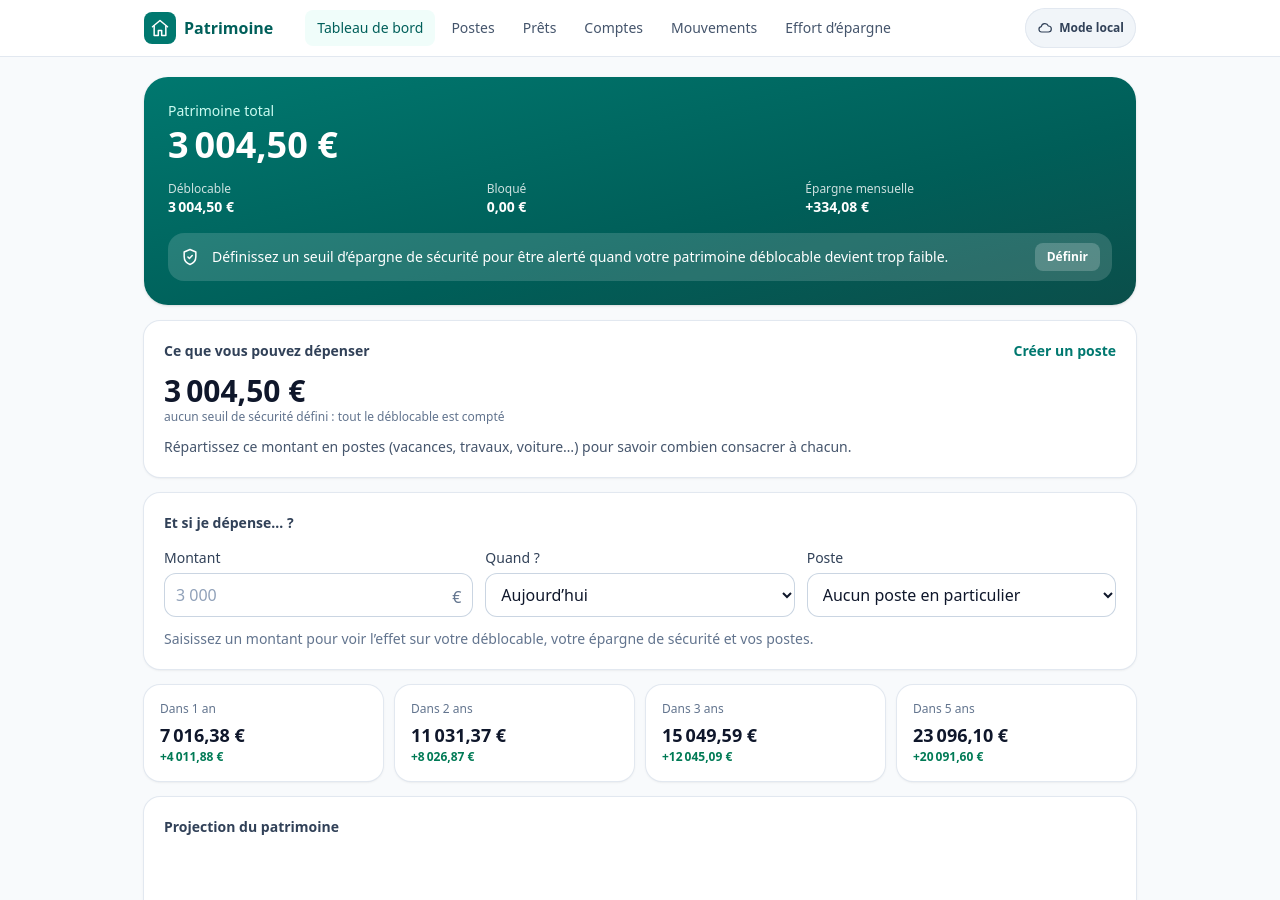
Test case: Épargne de sécurité › refuse un seuil invalide
This screenshot has width=1280, height=900.
Click the button with aria-label "définir l’épargne de sécurité".
click(1067, 257)  # box [1035,243,1100,271]
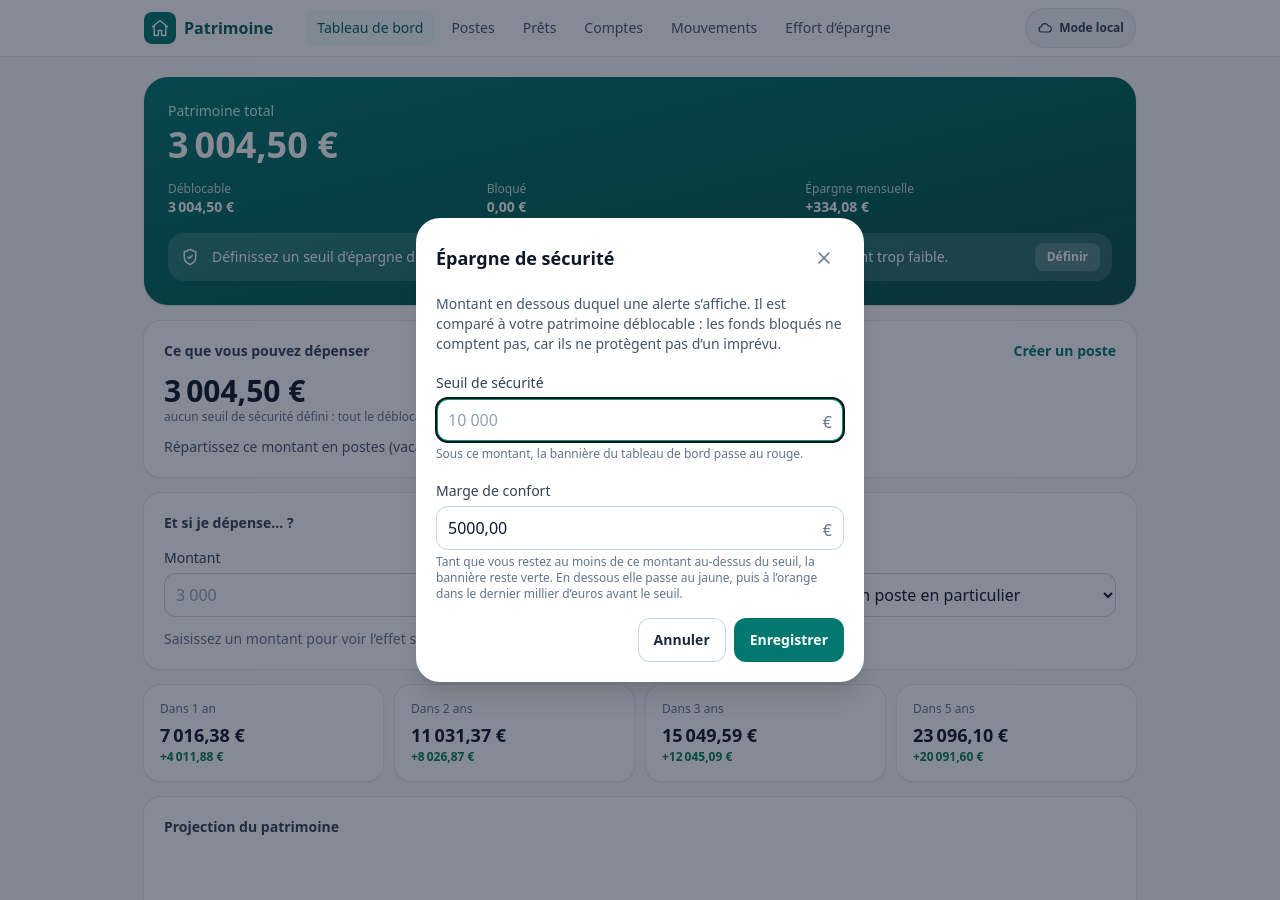
Type "beaucoup" into the field labelled "Seuil de sécurité".
click(640, 420); type("beaucoup")  # box [436,398,844,442]
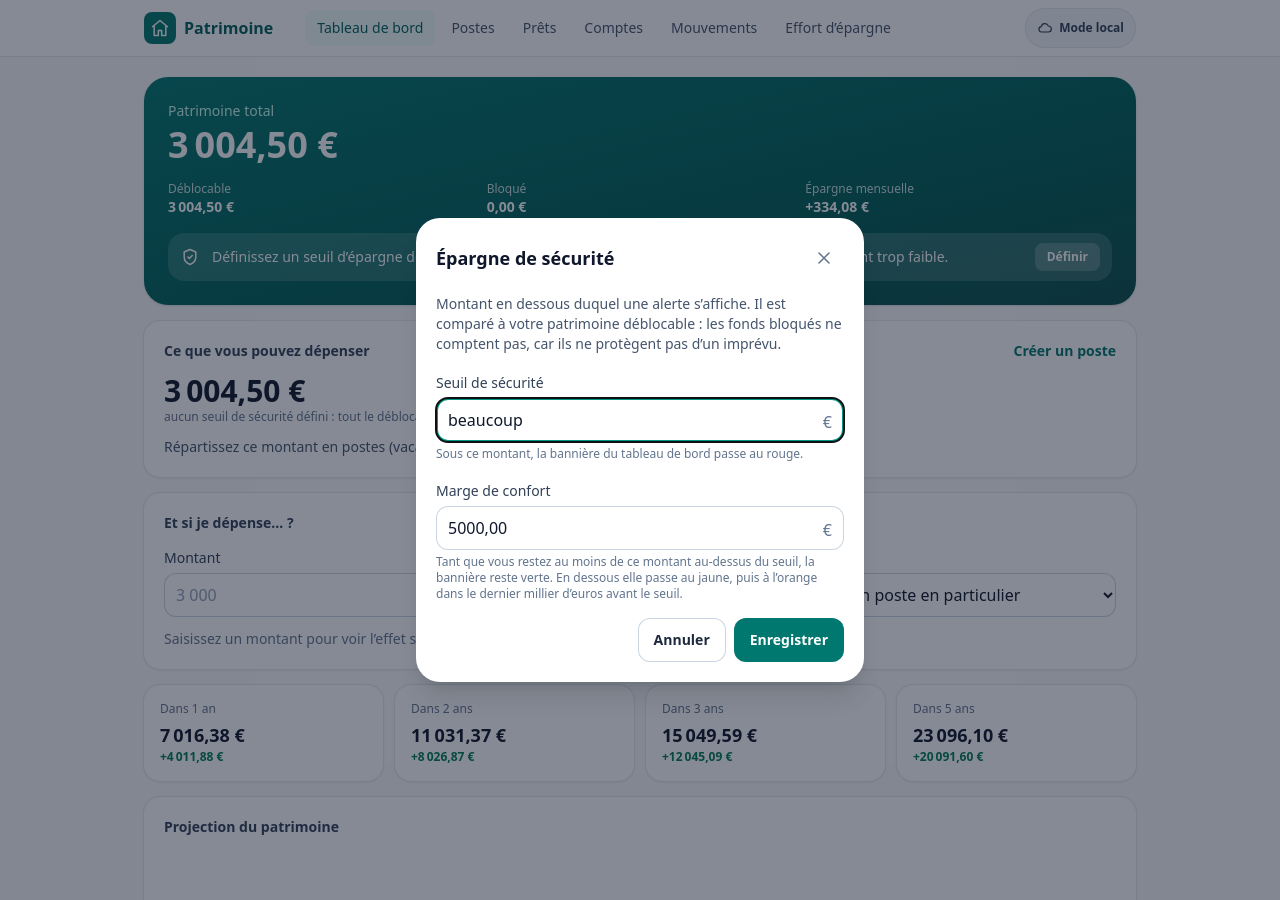
Click the button "Enregistrer".
click(789, 640)  # box [734,618,844,662]
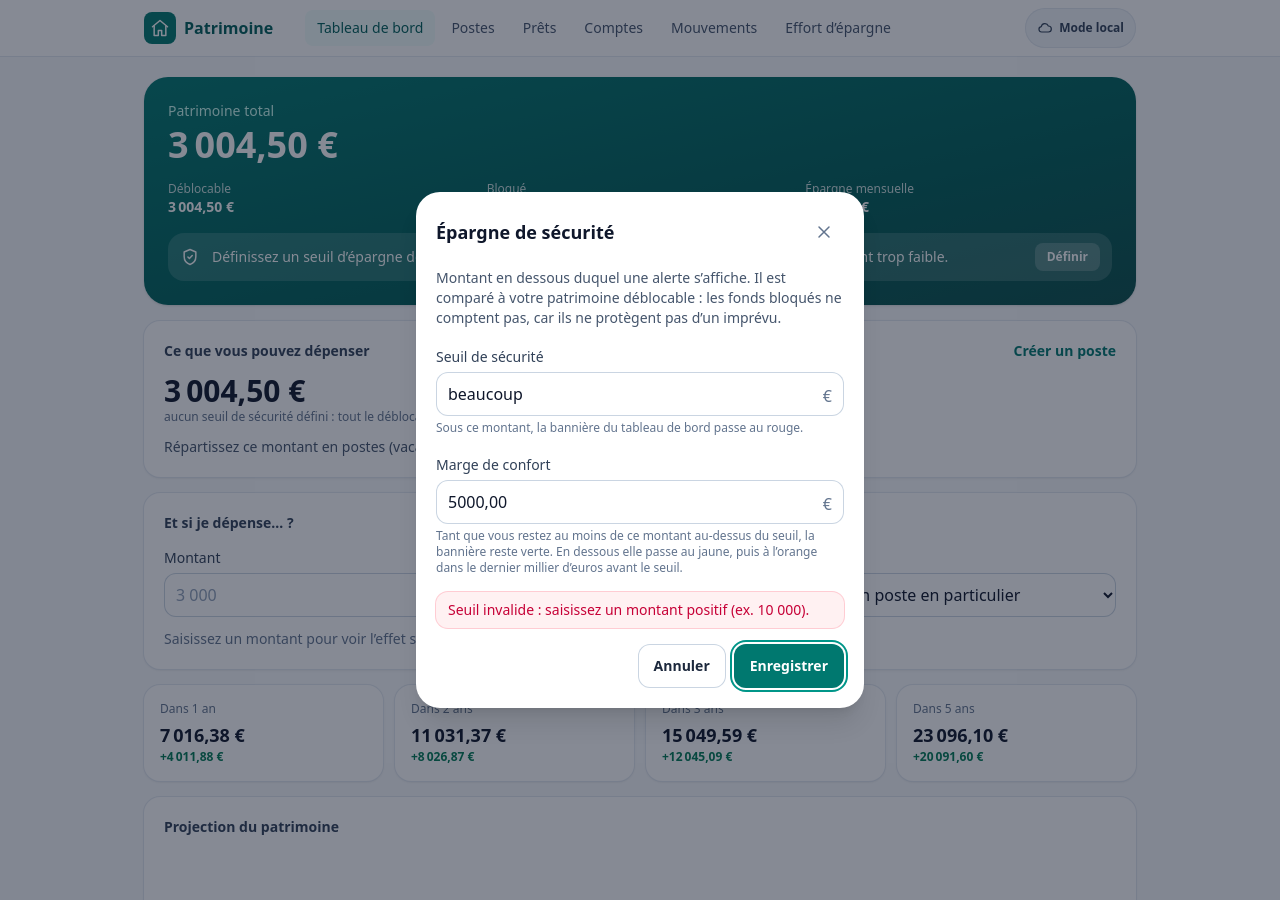
Expected: the message shows "Seuil invalide", [448,600,809,619]
